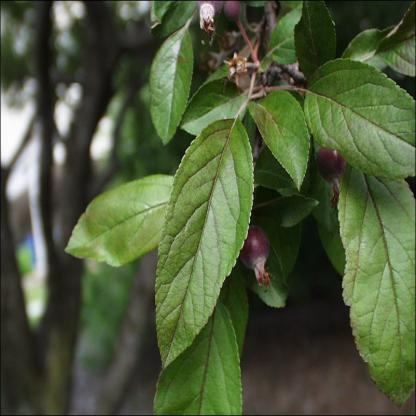apple leaf: (325, 139, 415, 415), (150, 112, 246, 368), (60, 170, 191, 276), (297, 64, 415, 178), (146, 294, 247, 415), (242, 79, 315, 193), (143, 11, 202, 150)
